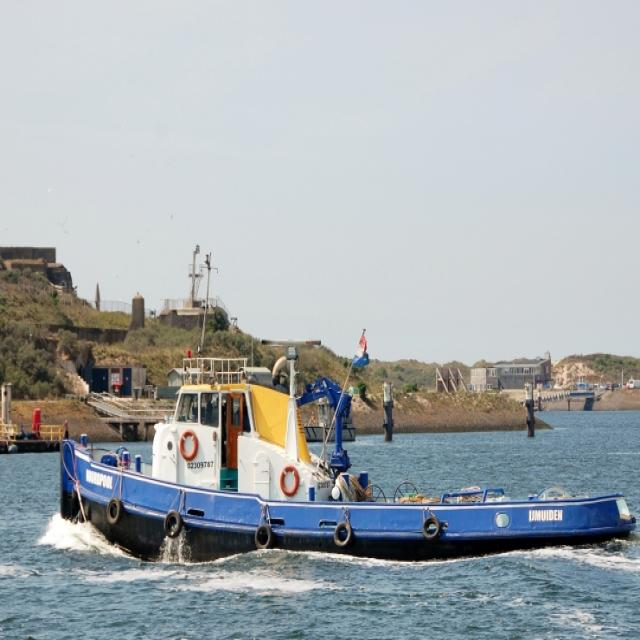tugboat: (56, 251, 640, 584)
